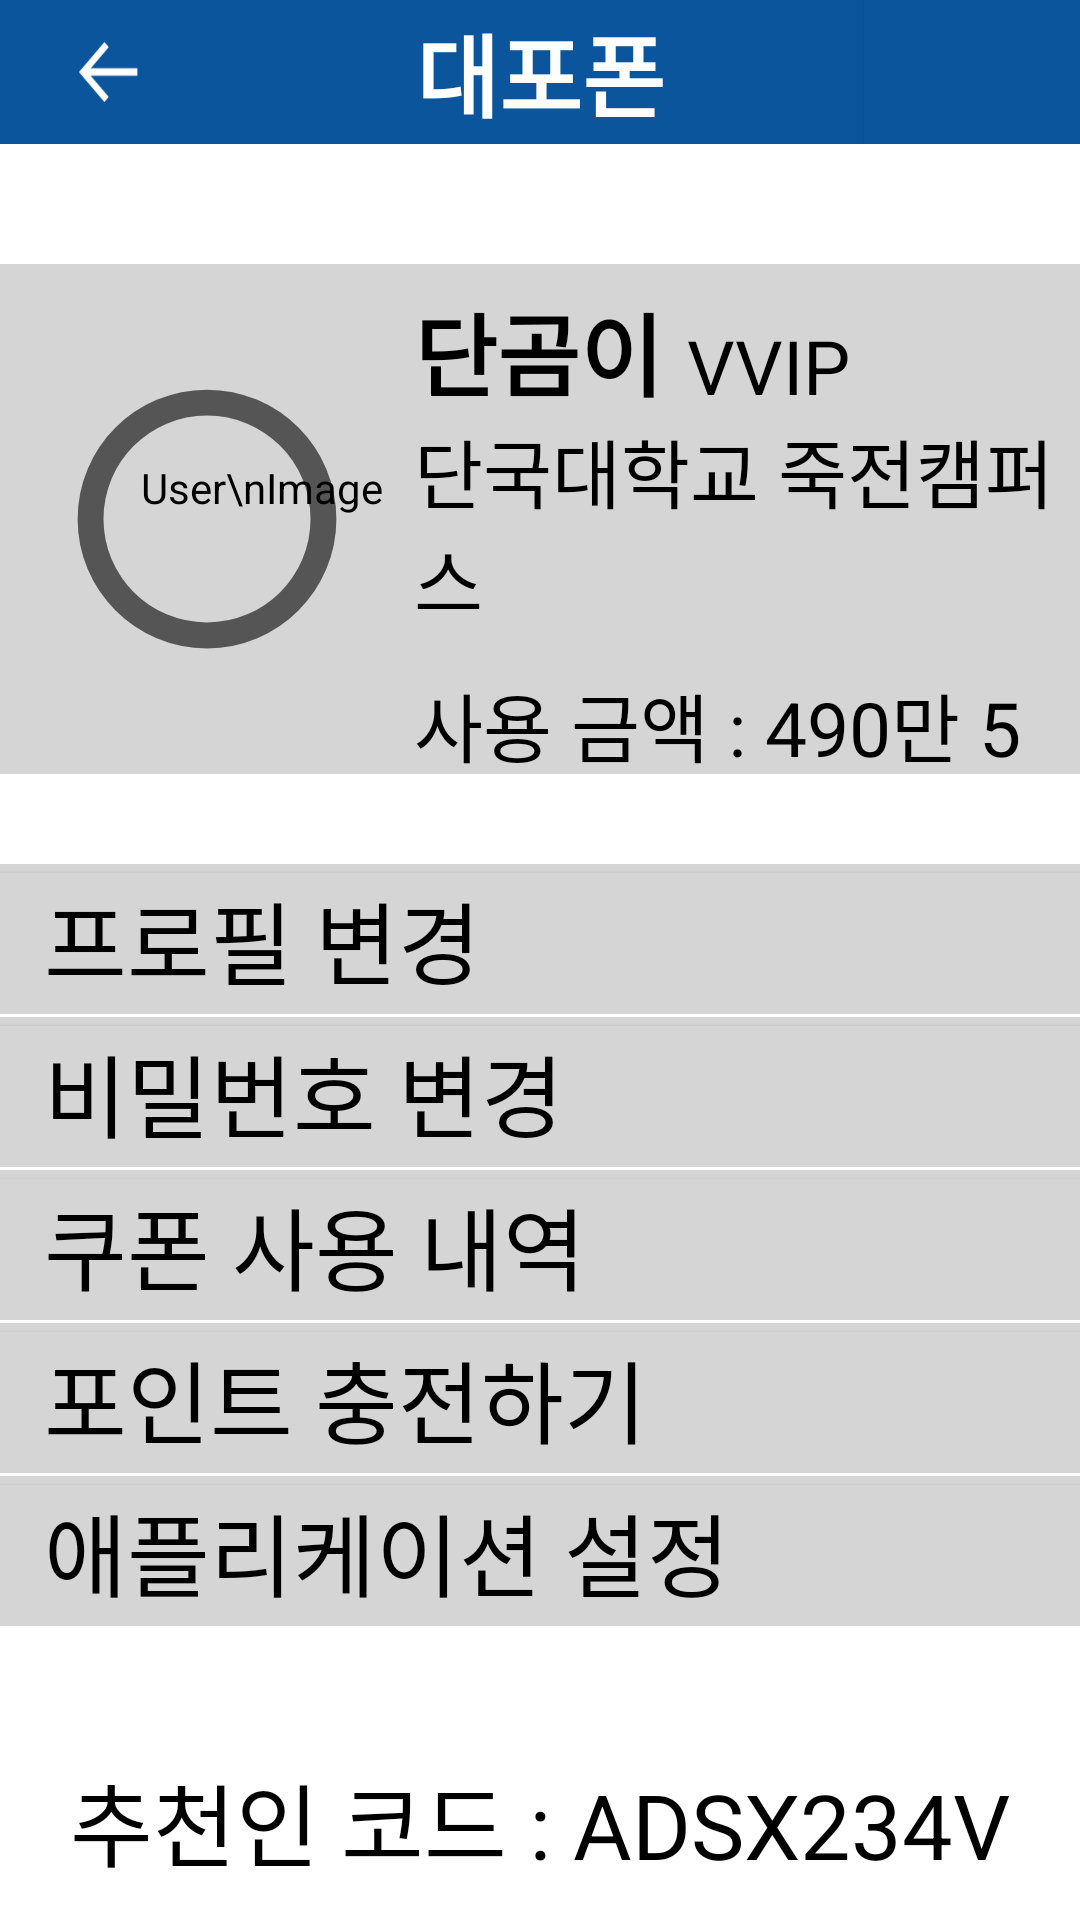

Screen size 1080*1920. Icon name, then its center in pixels as (x=x, y=y):
back arrow resize: (x=108, y=72)
